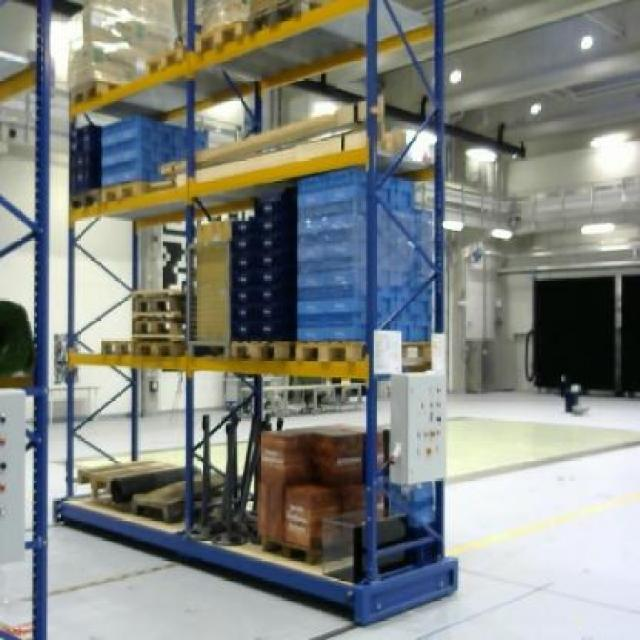box: (65, 2, 148, 78), (196, 224, 230, 341), (282, 488, 338, 548), (309, 426, 360, 488), (258, 427, 310, 485), (254, 488, 280, 540)
